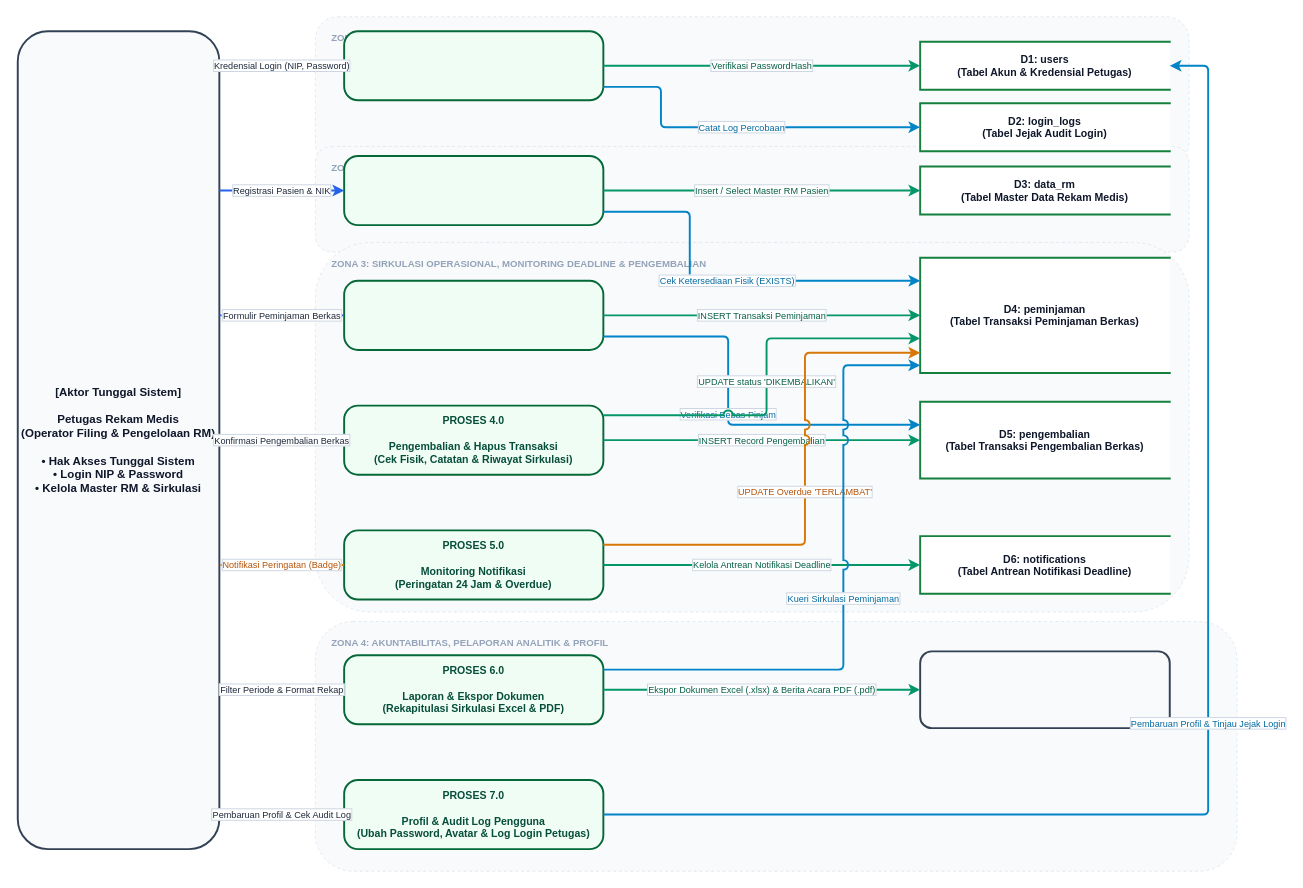
This 1303x888 diagram has some shape labels left out. Here are the shapes that lost their labels. From the top down, the centre of each, then its label:
At (473,65): "PROSES 1.0 Autentikasi & Sesi (Verifikasi Kredensial NIP & Bcrypt)".
At (473,190): "PROSES 2.0 Manajemen Data RM & Pasien (Master RM & NIK 16 Digit)".
At (473,314): "PROSES 3.0 Peminjaman Berkas Fisik (Single Active Loan & Batas 48 Jam)".
At (1044,689): "[Penyimpanan Komputer] File System (OS) (Direktori Unduhan / Ekspor Dokumen)".
